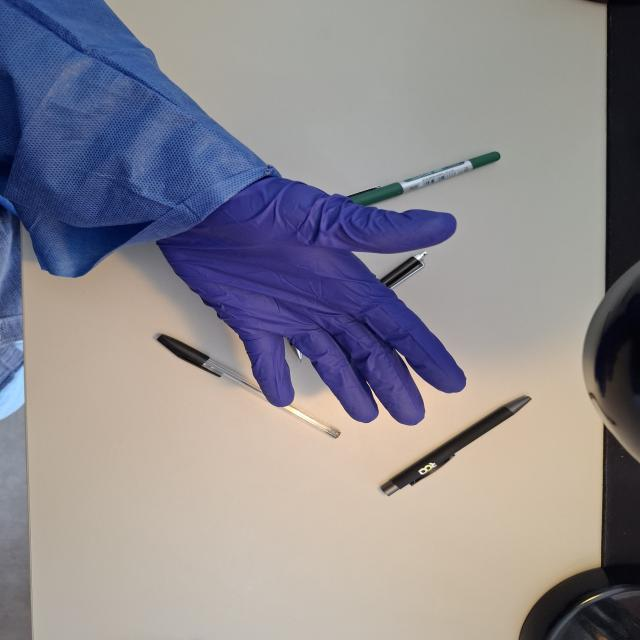glove_on: (151, 167, 470, 428)
